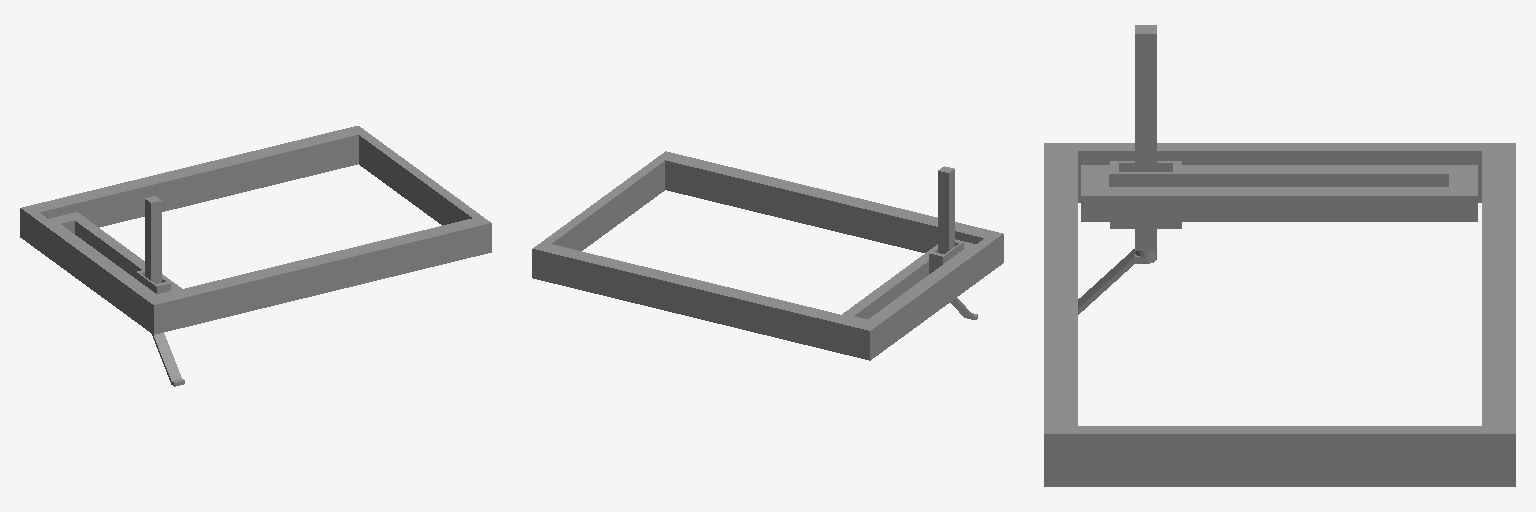
The robot description file, URDF, robot "cartesian_positioner":
<?xml version="1.0" encoding="utf-8"?>
<!-- This URDF was automatically created by SolidWorks to URDF Exporter! Originally created by [author] ([email redacted]) 
     Commit Version: 1.6.0-4-g7f85cfe  Build Version: 1.6.7995.38578
     For more information, please see http://wiki.ros.org/sw_urdf_exporter -->   
<robot
  name="cartesian_positioner">
  <link name="root_link"/>

  <link
    name="base_link">
    <inertial>
      <origin
        xyz="0.545 0.21 0.015"
        rpy="0 0 0" />
      <mass
        value="2.61" />
      <inertia
        ixx="0.08194635"
        ixy="5.20738915312999E-17"
        ixz="2.57356843807431E-19"
        iyy="0.3765219"
        iyz="-1.969633946682E-18"
        izz="0.45807675" />
    </inertial>
    <visual>
      <origin
        xyz="0 0 0"
        rpy="0 0 0" />
      <geometry>
        <mesh
          filename="package://cartesian_positioner_description/meshes/base_link.STL" scale="0.874 1.549 2.666"/>
      </geometry>
      <material
        name="">
        <color
          rgba="0.627450980392157 0.627450980392157 0.627450980392157 1" />
      </material>
    </visual>
    <collision>
      <origin
        xyz="0 0 0"
        rpy="0 0 0" />
      <geometry>
        <mesh
          filename="package://cartesian_positioner_description/meshes/base_link.STL" scale="0.874 1.549 2.666" />
      </geometry>
    </collision>
  </link>
  <joint
    name="root_joint"
    type="fixed">
    <origin
      xyz="0 0 0.25"
      rpy="0 0 0" />
    <parent
      link="root_link" />
    <child
      link="base_link" />
  </joint>
  <link
    name="x_stage">
    <inertial>
      <origin
        xyz="0.0500000000000001 0.21 -0.015"
        rpy="0 0 0" />
      <mass
        value="0.828000000000002" />
      <inertia
        ixx="0.0139185"
        ixy="7.55023665839396E-19"
        ixz="5.64688631502863E-21"
        iyy="0.0010545"
        iyz="-1.159596928051E-19"
        izz="0.0148488" />
    </inertial>
    <visual>
      <origin
        xyz="0 0 0"
        rpy="0 0 0" />
      <geometry>
        <mesh
          filename="package://cartesian_positioner_description/meshes/x_stage.STL" scale="1 1.306 1.333"/>
      </geometry>
      <material
        name="">
        <color
          rgba="0.627450980392157 0.627450980392157 0.627450980392157 1" />
      </material>
    </visual>
    <collision>
      <origin
        xyz="0 0 0"
        rpy="0 0 0" />
      <geometry>
        <mesh
          filename="package://cartesian_positioner_description/meshes/x_stage.STL" scale="1 1.306 1.333"/>
      </geometry>
    </collision>
  </link>
  <joint
    name="x_joint_plan"
    type="prismatic">
    <origin
      xyz="0.03 0.05 0.06"
      rpy="0 0 0" />
    <parent
      link="base_link" />
    <child
      link="x_stage" />
    <axis
      xyz="1 0 0" />
    <limit
      lower="0"
      upper="0.750"
      effort="100"
      velocity="1" />
  </joint>
  
  <link
    name="y_stage">
    <inertial>
      <origin
        xyz="0.02 0.02 -0.015"
        rpy="0 0 0" />
      <mass
        value="0.021" />
      <inertia
        ixx="5.95000000000001E-06"
        ixy="-6.66644293297972E-22"
        ixz="-2.48154183766091E-24"
        iyy="5.95000000000001E-06"
        iyz="-7.76446868316441E-22"
        izz="8.75000000000002E-06" />
    </inertial>
    <visual>
      <origin
        xyz="0 0 0"
        rpy="0 0 0" />
      <geometry>
        <mesh
          filename="package://cartesian_positioner_description/meshes/y_stage.STL" scale="1 2.5 2.833"/>
      </geometry>
      <material
        name="">
        <color
          rgba="0.627450980392157 0.627450980392157 0.627450980392157 1" />
      </material>
    </visual>
    <collision>
      <origin
        xyz="0 0 0"
        rpy="0 0 0" />
      <geometry>
        <mesh
          filename="package://cartesian_positioner_description/meshes/y_stage.STL" scale="1 2.5 2.833"/>
      </geometry>
    </collision>
  </link>
  <joint
    name="y_joint"
    type="prismatic">
    <origin
      xyz="0.03 0.04 0.02"
      rpy="0 0 0" />
    <parent
      link="x_stage" />
    <child
      link="y_stage" />
    <axis
      xyz="0 1 0" />
    <limit
      lower="0"
      upper="0.36"
      effort="100"
      velocity="1" />
  </joint>
  <link
    name="z_stage">
    <inertial>
      <origin
        xyz="0.015 0.015 0.165"
        rpy="0 0 0" />
      <mass
        value="0.297" />
      <inertia
        ixx="0.00271755"
        ixy="2.53323837601238E-22"
        ixz="-8.81620763116716E-36"
        iyy="0.00271755"
        iyz="1.35525271560688E-20"
        izz="4.45500000000001E-05" />
    </inertial>
    <visual>
      <origin
        xyz="0 0 0"
        rpy="0 0 0" />
      <geometry>
        <mesh
          filename="package://cartesian_positioner_description/meshes/z_stage.STL" />
      </geometry>
      <material
        name="">
        <color
          rgba="0.627450980392157 0.627450980392157 0.627450980392157 1" />
      </material>
    </visual>
    <collision>
      <origin
        xyz="0 0 0"
        rpy="0 0 0" />
      <geometry>
        <mesh
          filename="package://cartesian_positioner_description/meshes/z_stage.STL" />
      </geometry>
    </collision>
  </link>
  <joint
    name="z_joint"
    type="prismatic">
    <origin
      xyz="0.005 0.035 -0.12"
      rpy="0 0 0" />
    <parent
      link="y_stage" />
    <child
      link="z_stage" />
    <axis
      xyz="0 0 -1" />
    <limit
      lower="0"
      upper="0.255"
      effort="100"
      velocity="1" />
  </joint>
  <link
    name="a_stage">
    <inertial>
      <origin
        xyz="5.55111512312578E-17 -1.38777878078145E-17 0.005"
        rpy="0 0 0" />
      <mass
        value="0.00706858347057704" />
      <inertia
        ixx="4.56512682474767E-07"
        ixy="-8.7672286998829E-38"
        ixz="7.62082778666612E-39"
        iyy="4.56512682474767E-07"
        iyz="1.26517267465749E-24"
        izz="7.95215640439917E-07" />
    </inertial>
    <visual>
      <origin
        xyz="0 0 0"
        rpy="0 0 0" />
      <geometry>
        <mesh
          filename="package://cartesian_positioner_description/meshes/a_stage.STL" />
      </geometry>
      <material
        name="">
        <color
          rgba="0.627450980392157 0.627450980392157 0.627450980392157 1" />
      </material>
    </visual>
    <collision>
      <origin
        xyz="0 0 0"
        rpy="0 0 0" />
      <geometry>
        <mesh
          filename="package://cartesian_positioner_description/meshes/a_stage.STL" />
      </geometry>
    </collision>
  </link>
  <joint
    name="a_joint"
    type="continuous">
    <origin
      xyz="0.0149999999999996 0.015 -0.0100000000000001"
      rpy="0 0 0" />
    <parent
      link="z_stage" />
    <child
      link="a_stage" />
    <axis
      xyz="0 0 -1" />
    <limit
      effort="100"
      velocity="10" />
  </joint>
  <link
    name="tool">
    <inertial>
      <origin
        xyz="-1.52193926405975E-07 0.0530606506441713 0.0623032894021041"
        rpy="0 0 0" />
      <mass
        value="0.147757758583212" />
      <inertia
        ixx="0.00034328202256601"
        ixy="-1.09719380453623E-09"
        ixz="-9.14516377462814E-10"
        iyy="0.000183483007523239"
        iyz="-0.000160724714580781"
        izz="0.000181664808320788" />
    </inertial>
    <visual>
      <origin
        xyz="-0.015 -0.009 -0.004"
        rpy="1.57 0 1.57" />
      <geometry>
        <mesh
          filename="package://cartesian_positioner_description/meshes/tool.STL" scale="0.001 0.001 0.001"/>
      </geometry>
      <material
        name="">
        <color
          rgba="0.627450980392157 0.627450980392157 0.627450980392157 1" />
      </material>
    </visual>
    <collision>
      <origin
        xyz="-0.015 -0.009 -0.004"
        rpy="1.57 0 1.57" />
      <geometry>
        <mesh
          filename="package://cartesian_positioner_description/meshes/tool.STL" scale="0.001 0.001 0.001" />
      </geometry>
    </collision>
  </link>
  <joint
    name="tool_joint"
    type="fixed">
    <origin
      xyz="0 -0.12 -0.105"
      rpy="0 0 0" />
    <parent
      link="a_stage" />
    <child
      link="tool" />
    <axis
      xyz="0 0 0" />
  </joint>

  <ros2_control name="TBot_positioner" type="system">
    <hardware>
      <plugin>odrive_hardware_interface/ODriveHardwareInterface</plugin>
    </hardware>
    <sensor name="odrv0">
      <param name="serial_number">207f34a25748</param>
    </sensor>

    <joint name="y_joint">
      <param name="serial_number">207f34a25748</param>
      <param name="axis">0</param>
      <param name="enable_watchdog">0</param>
      <param name="watchdog_timeout">0.1</param>
      <command_interface name="position"/>
      <state_interface name="position"/>
      <state_interface name="velocity"/>|
    </joint>

    <joint name="z_joint">
      <param name="serial_number">207f34a25748</param>
      <param name="axis">1</param>
      <param name="enable_watchdog">0</param>
      <param name="watchdog_timeout">0.1</param>
      <command_interface name="position"/>
      <state_interface name="position"/>
      <state_interface name="velocity"/>|
    </joint>

    <transmission name="transmission1">
      <plugin>TBotTransmission</plugin>
      <actuator name="motor1" role="actuator1"/>
      <joint name="y_joint" role="joint1">
        <offset>0.0</offset>
        <mechanical_reduction>80.0</mechanical_reduction>
      </joint>
      <actuator name="motor2" role="actuator2"/>
      <joint name="z_joint" role="joint2">
        <offset>0.0</offset>
        <mechanical_reduction>80.0</mechanical_reduction>
      </joint>
    </transmission>
  </ros2_control>

  <!-- <ros2_control name="x_virtual" type="system">
    <hardware>
      <plugin>fake_components/GenericSystem</plugin>
    </hardware>
    <joint name="x_joint_plan">
      <command_interface name="position"/>
      <state_interface name="position"/>
      <state_interface name="velocity"/>
    </joint>
  </ros2_control> -->

  <ros2_control name="xa_positioner" type="system">
    <hardware>
      <plugin>odrive_hardware_interface/ODriveHardwareInterface</plugin>
    </hardware>
    <sensor name="odrv1">
      <param name="serial_number">364C38623030</param>
    </sensor>
    
    <joint name="x_joint_plan">
      <param name="serial_number">364C38623030</param>
      <param name="axis">0</param>
      <param name="enable_watchdog">0</param>
      <param name="watchdog_timeout">0.1</param>
      <command_interface name="position"/>
      <state_interface name="position"/>
      <state_interface name="velocity"/>
    </joint>
    
    <joint name="a_joint">
      <param name="serial_number">364C38623030</param>
      <param name="axis">1</param>
      <param name="enable_watchdog">0</param>
      <param name="watchdog_timeout">0.1</param>
      <command_interface name="position"/>
      <state_interface name="position"/>
      <state_interface name="velocity"/>
    </joint>
    
    <transmission name="transmission2">
        <plugin>transmission_interface/SimpleTransmission</plugin>
        <joint name="x_joint_plan" role="x_joint_plan">
    	    <mechanical_reduction>-160</mechanical_reduction>
    	</joint>
    </transmission>



  </ros2_control>
</robot>

--- Render facts (derived) ---
3 views of the same robot in one strip: view 1: azimuth 30°, elevation 25°; view 2: azimuth 150°, elevation 25°; view 3: azimuth 270°, elevation 25° (orthographic).
Model cartesian_positioner with 7 links and 6 joints (1 continuous, 3 prismatic, 2 fixed), rooted at root_link, posed every joint at zero.
Visible links, largest first — view 1: base_link, x_stage, z_stage, tool; view 2: base_link, x_stage, z_stage; view 3: base_link, x_stage, z_stage, y_stage, tool.
Boxes of the visible links, bbox=[...] form: base_link: bbox=[20, 126, 491, 334]; x_stage: bbox=[49, 212, 181, 295]; z_stage: bbox=[145, 196, 161, 283]; tool: bbox=[151, 333, 184, 386]; base_link: bbox=[532, 151, 1003, 360]; x_stage: bbox=[842, 239, 975, 321]; z_stage: bbox=[938, 166, 954, 253]; base_link: bbox=[1044, 143, 1515, 486]; x_stage: bbox=[1081, 165, 1477, 221]; z_stage: bbox=[1135, 25, 1156, 250]; y_stage: bbox=[1110, 161, 1181, 228]; tool: bbox=[1078, 249, 1156, 314].
Bounding box of the posed robot: 0.9527 × 0.6506 × 0.449 m (x, y, z).
Meshes: 6 distinct files referenced, 6 mesh visuals loaded (6 binary STL).
